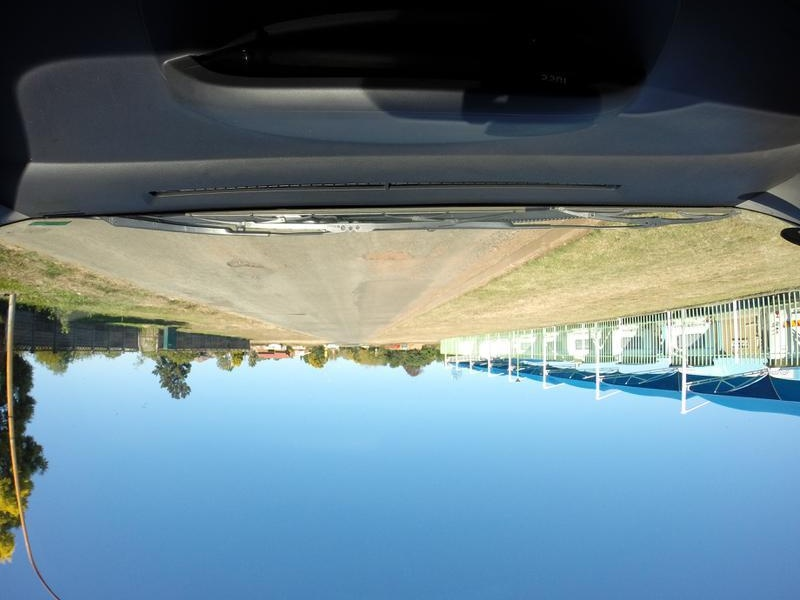pothole: (360, 250, 405, 261), (226, 259, 262, 270), (283, 314, 305, 316)
